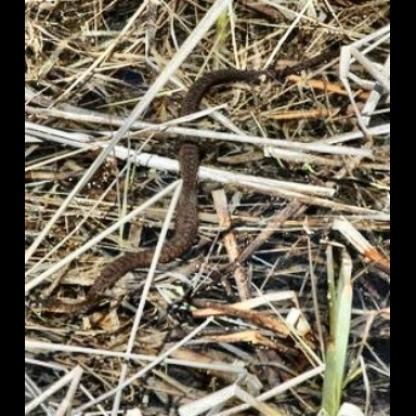Snake: (35, 122, 202, 323)
